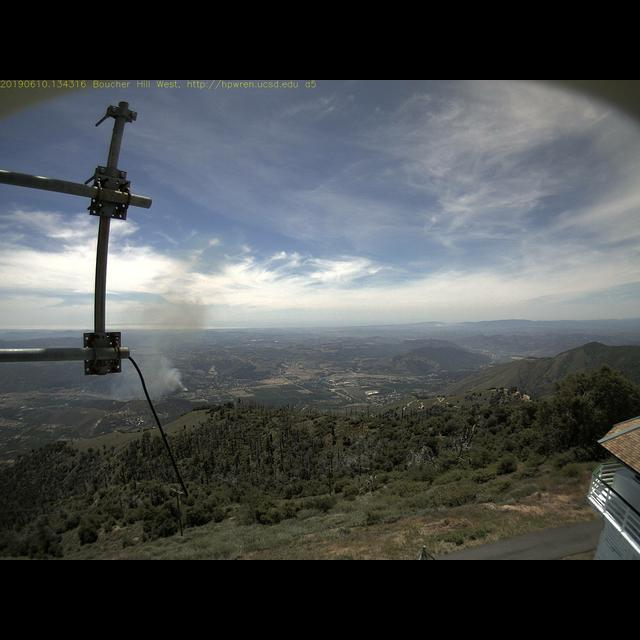Smoke: (127, 262, 211, 397)
